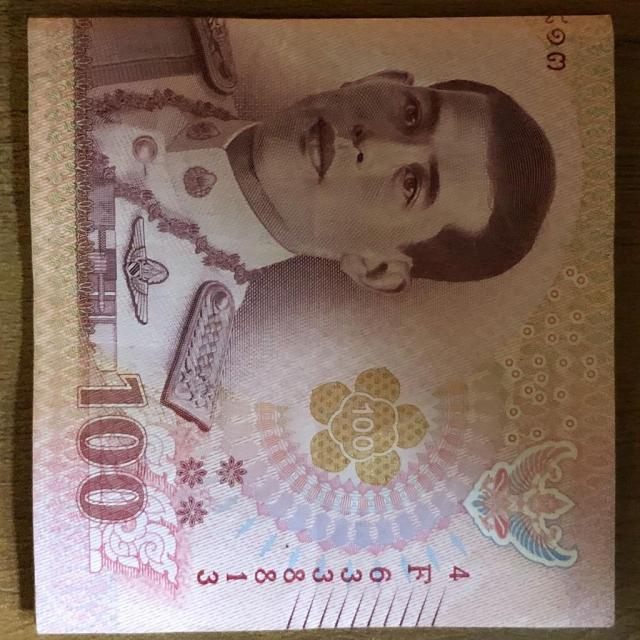THAI100: (28, 16, 615, 632)
